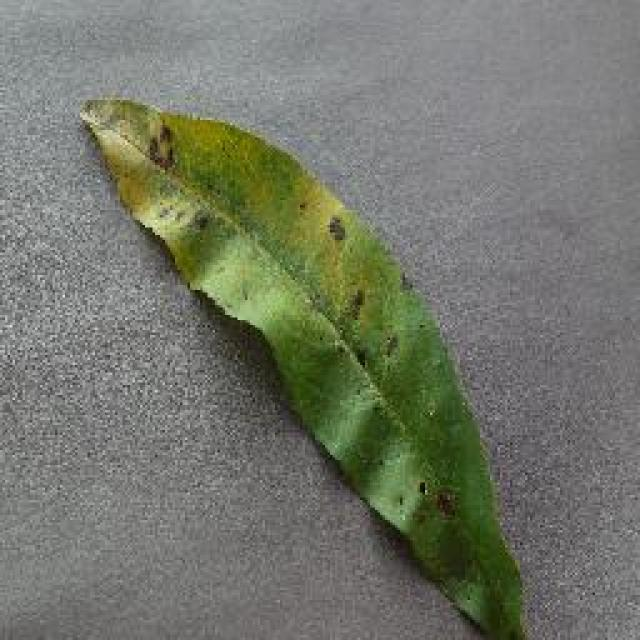Peach_Bacterial_Spot: (152, 71, 502, 542)
